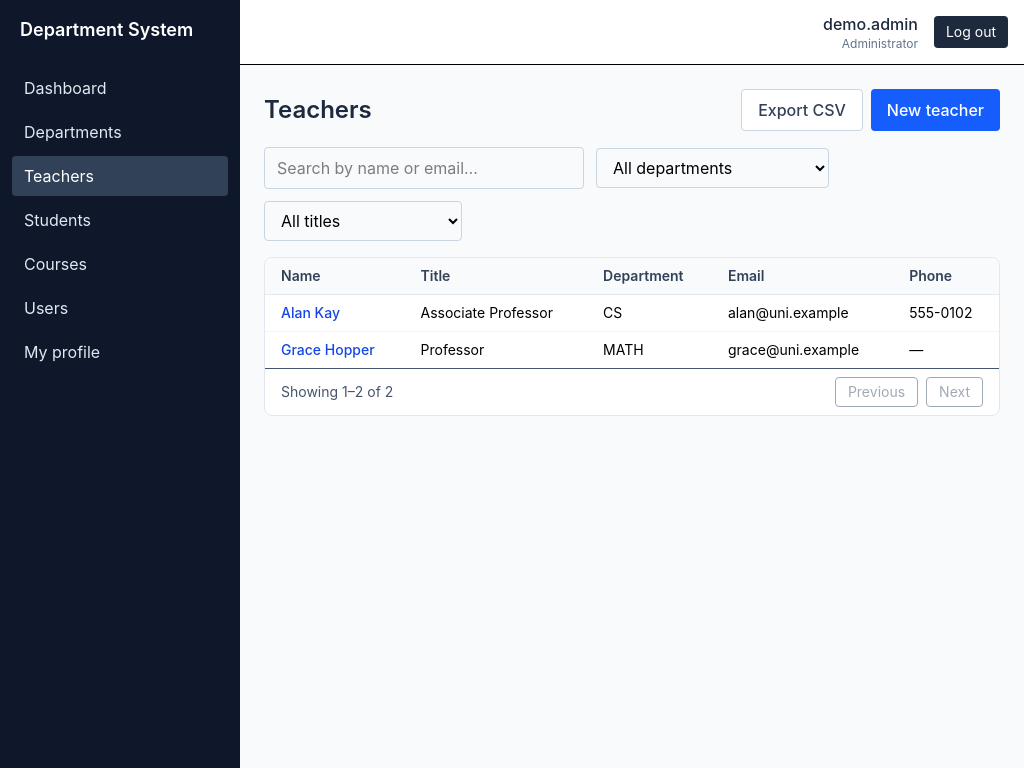
Test case: TeachersPage list › says when no teacher matches the filters
Expected: the table named "Teachers" is shown, [265,258,999,368]
Select "Lecturer" in the 2nd dropdown named "Title" at (363, 221), box [264,201,462,241]
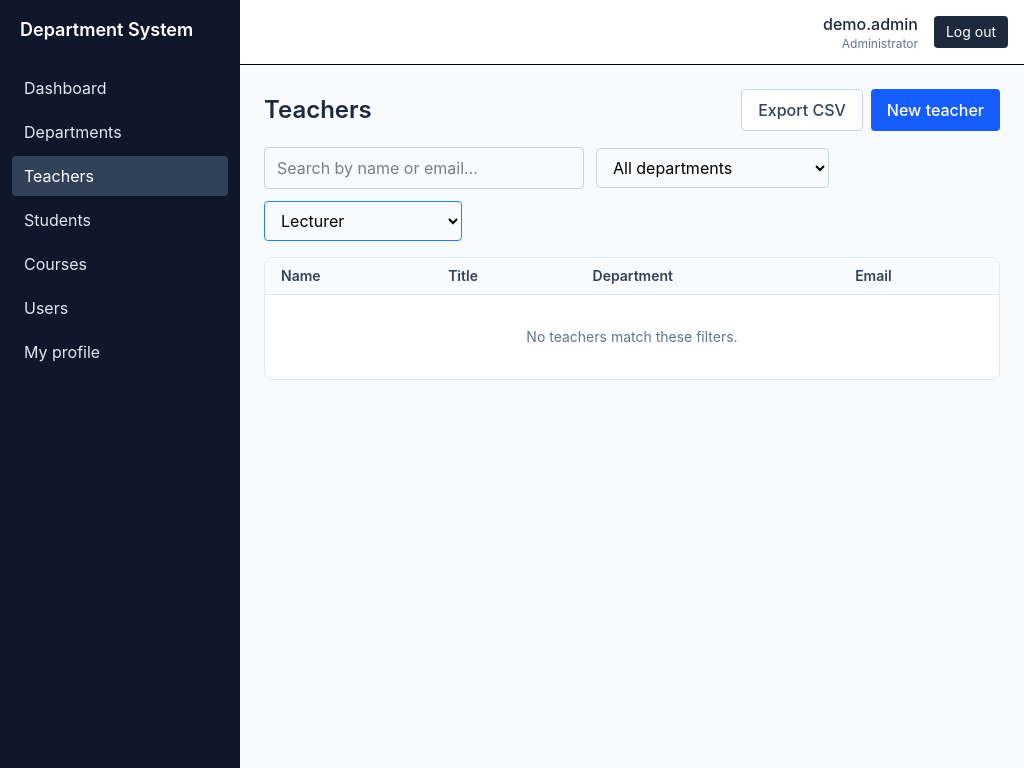
Expected: the cell "No teachers match these filters." is shown, [265,295,999,379]
